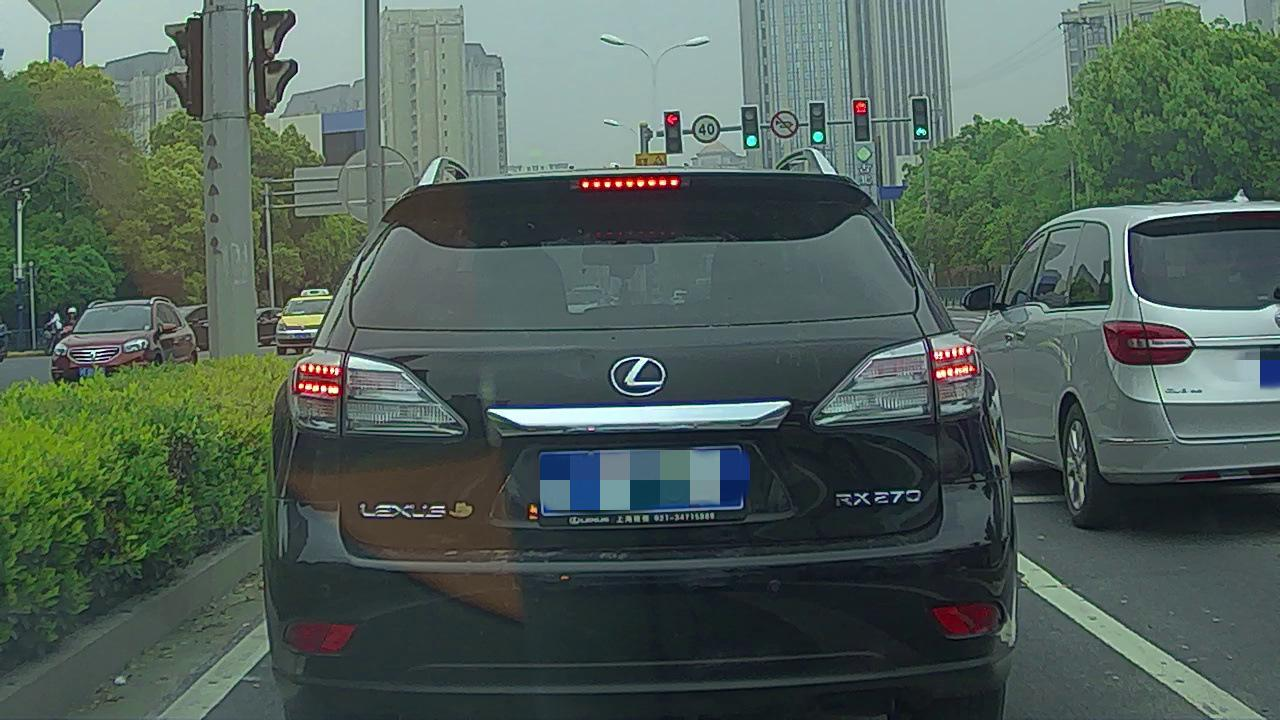traffic_light: (911, 96, 930, 142), (663, 112, 682, 154), (853, 98, 870, 142), (742, 108, 759, 149), (810, 103, 826, 146)
